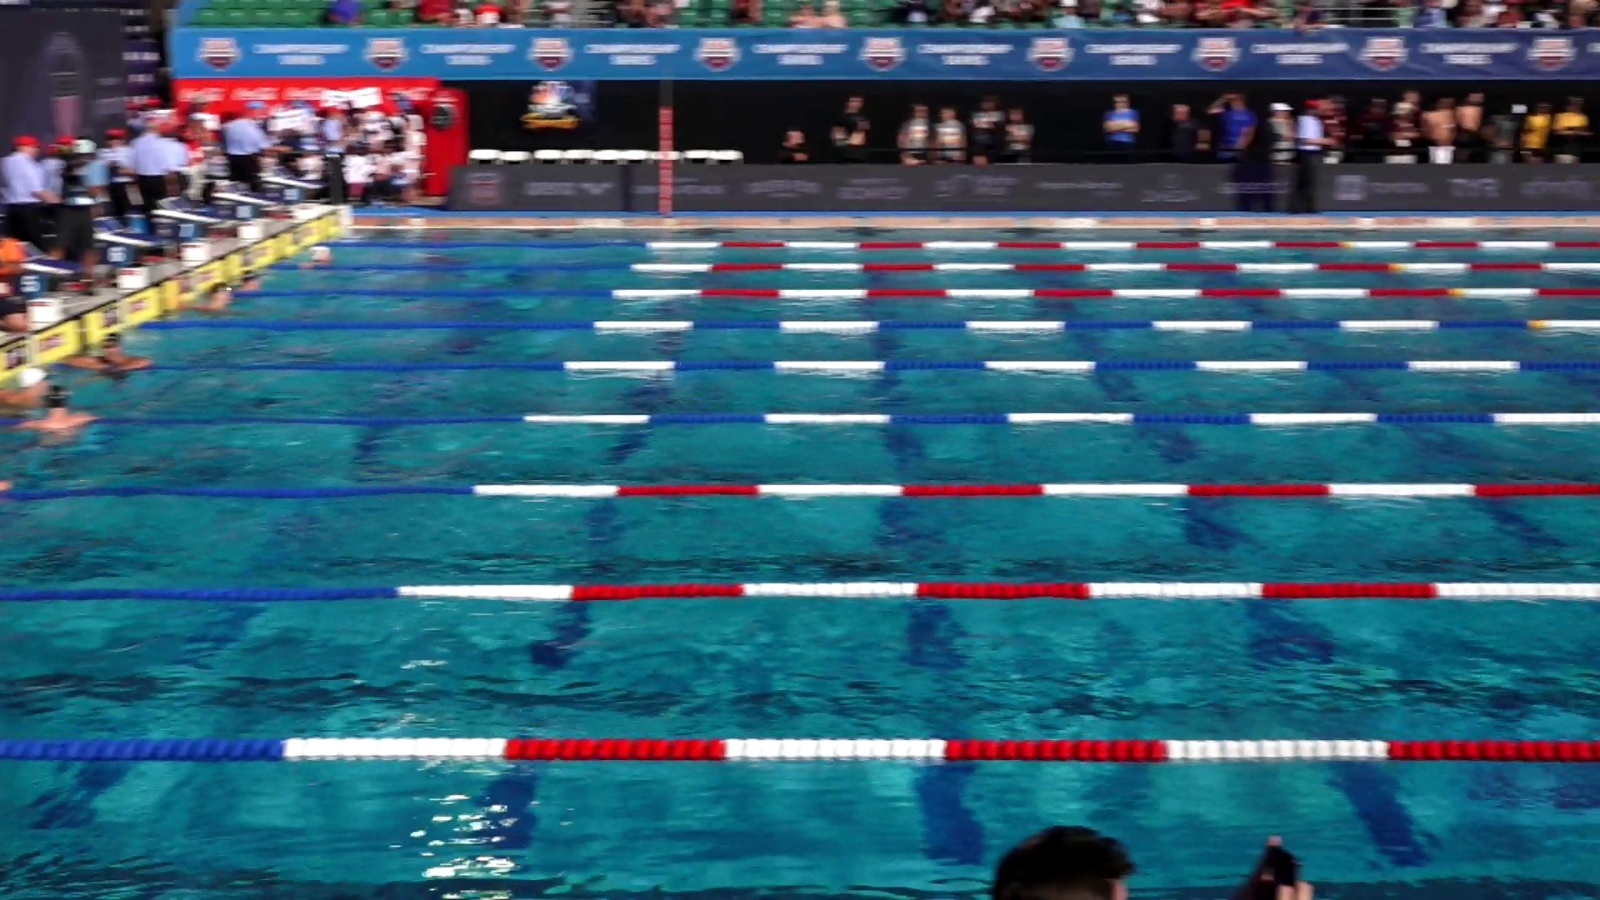swimmerw: (15, 388, 98, 456), (53, 332, 155, 380), (162, 280, 238, 316), (1, 363, 58, 408), (290, 240, 338, 284), (225, 265, 269, 293)
